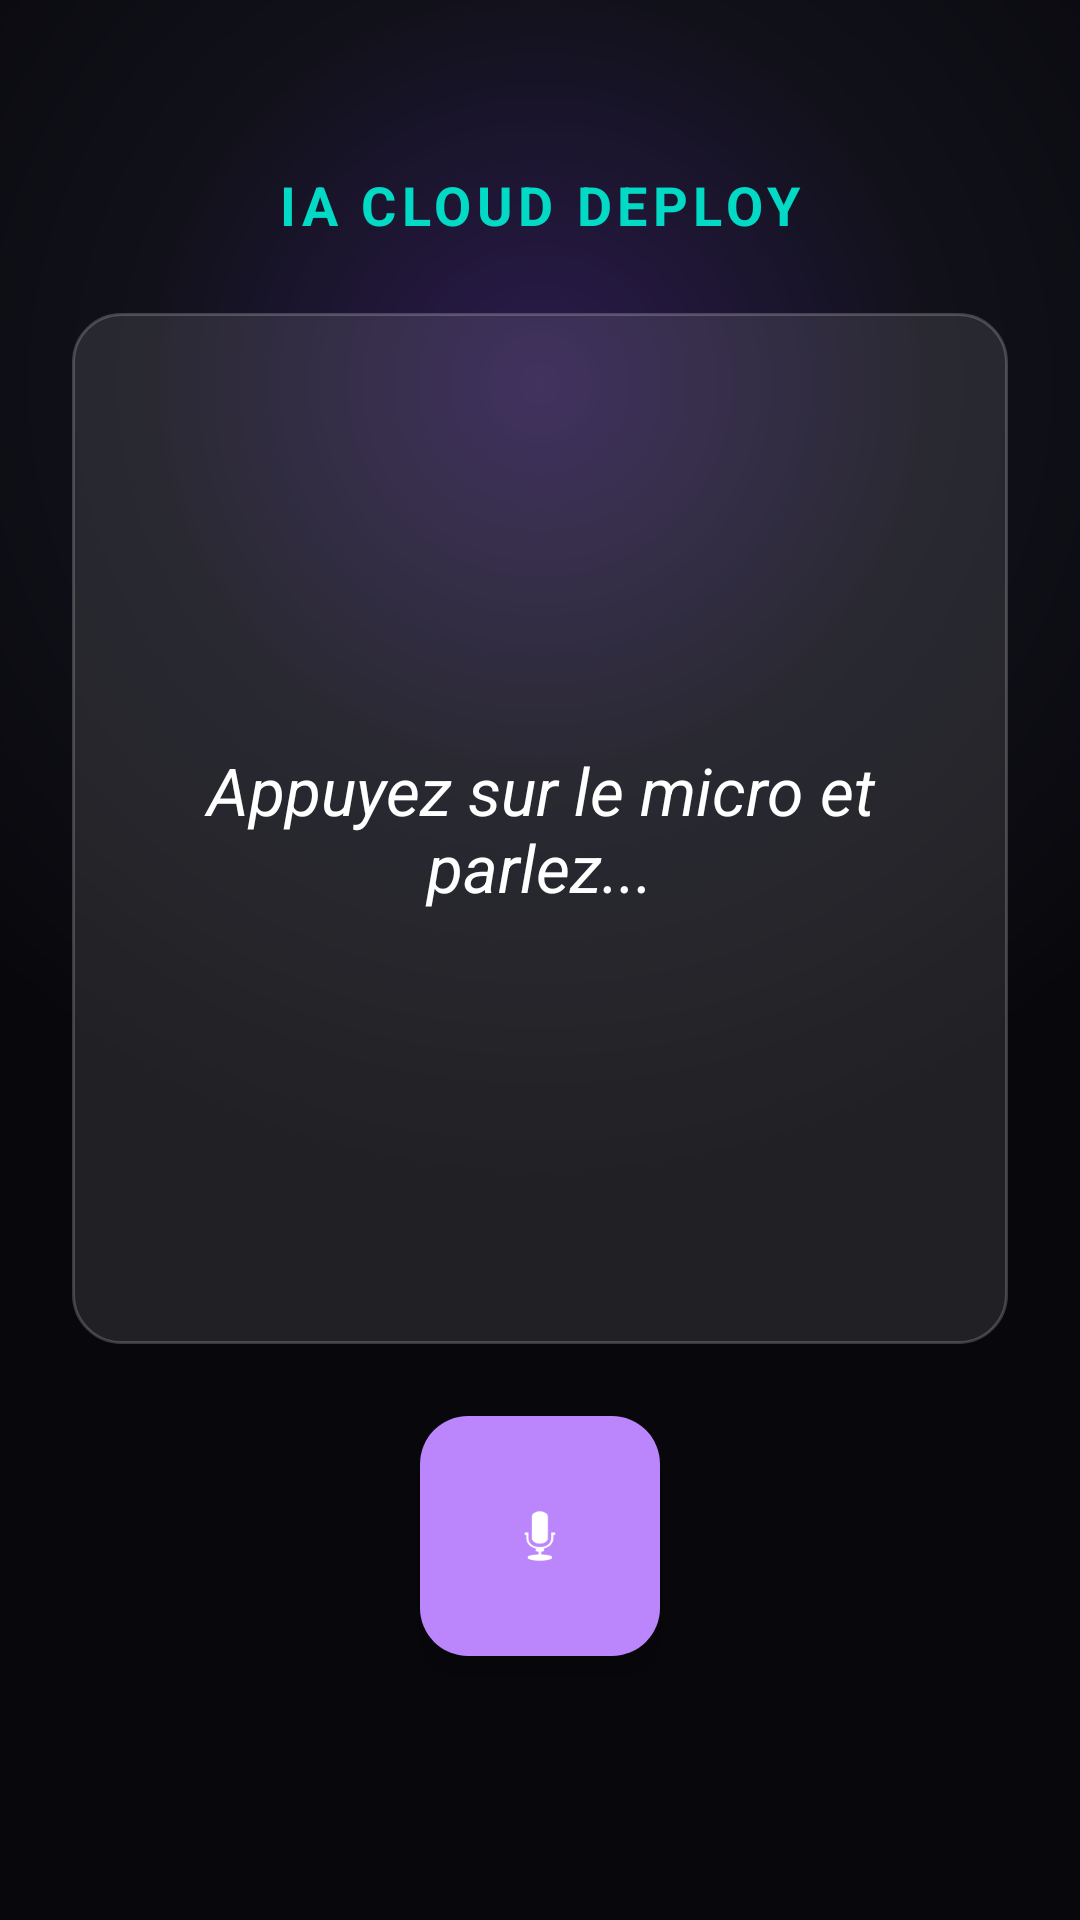

Locate icon controls on the screen. Image size 1080*1920, boxes as bbox=(x1, y1, x2, y2).
speak now: bbox=(420, 1416, 660, 1656)
